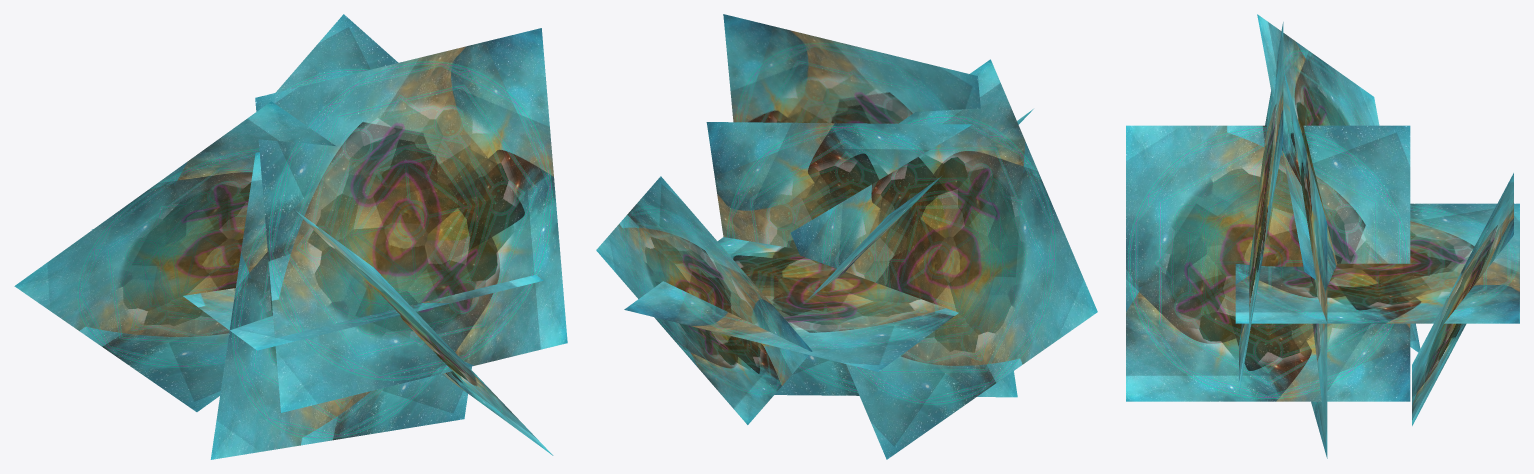
The model's file is neinie.glb.
3 renders of one model, left to right at view 1: azimuth 30°, elevation 25°; view 2: azimuth 150°, elevation 25°; view 3: azimuth 270°, elevation 25°, orthographic. The views are drawn at different scales.
Parts seen in each view (by area): view 1: Plane.003, Plane.005, Plane.002, Plane.001, Plane, Plane.004; view 2: Plane.005, Plane.002, Plane.004, Plane.003, Plane, Plane.001; view 3: Plane.001, Plane, Plane.005, Plane.004, Plane.002, Plane.003.
Boxes of the visible parts, left/top/right/bottom form: Plane.003: left=255, top=28, right=567, bottom=412; Plane.005: left=14, top=101, right=335, bottom=411; Plane.002: left=210, top=152, right=471, bottom=459; Plane.001: left=293, top=209, right=553, bottom=455; Plane: left=92, top=229, right=543, bottom=350; Plane.004: left=275, top=14, right=398, bottom=92; Plane.005: left=790, top=59, right=1097, bottom=459; Plane.002: left=706, top=122, right=1017, bottom=397; Plane.004: left=596, top=176, right=812, bottom=424; Plane.003: left=723, top=14, right=980, bottom=123; Plane: left=624, top=237, right=958, bottom=371; Plane.001: left=808, top=109, right=1033, bottom=298; Plane.001: left=1126, top=125, right=1410, bottom=401; Plane: left=1235, top=203, right=1519, bottom=323; Plane.005: left=1257, top=14, right=1420, bottom=352; Plane.004: left=1412, top=173, right=1513, bottom=425; Plane.002: left=1284, top=71, right=1327, bottom=458; Plane.003: left=1239, top=22, right=1283, bottom=393.
Bounding box in the file's own units: 3.79 × 2.7 × 2.77.
6 materials, 6 textured.
